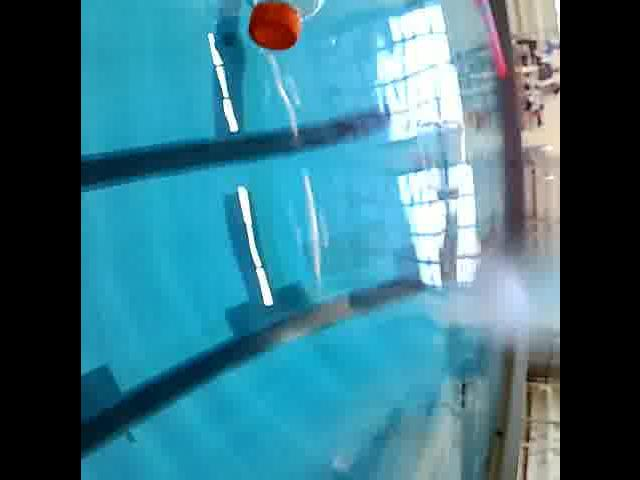Bottle: (232, 0, 346, 62)
